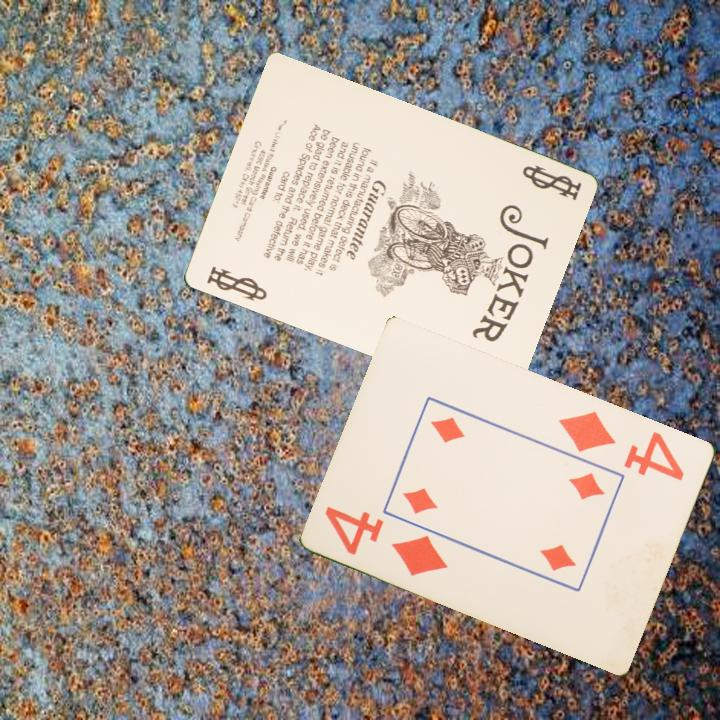4d: (556, 406, 688, 484), (321, 502, 452, 580)
JK: (202, 263, 270, 305), (518, 161, 584, 204)
